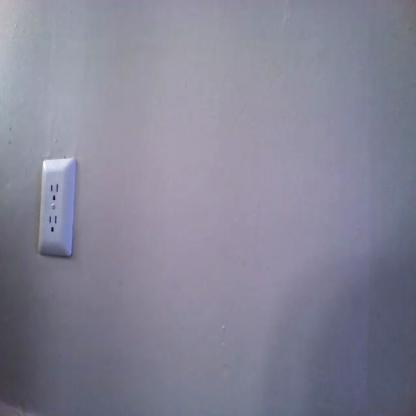OUTLET: (36, 155, 76, 258)
